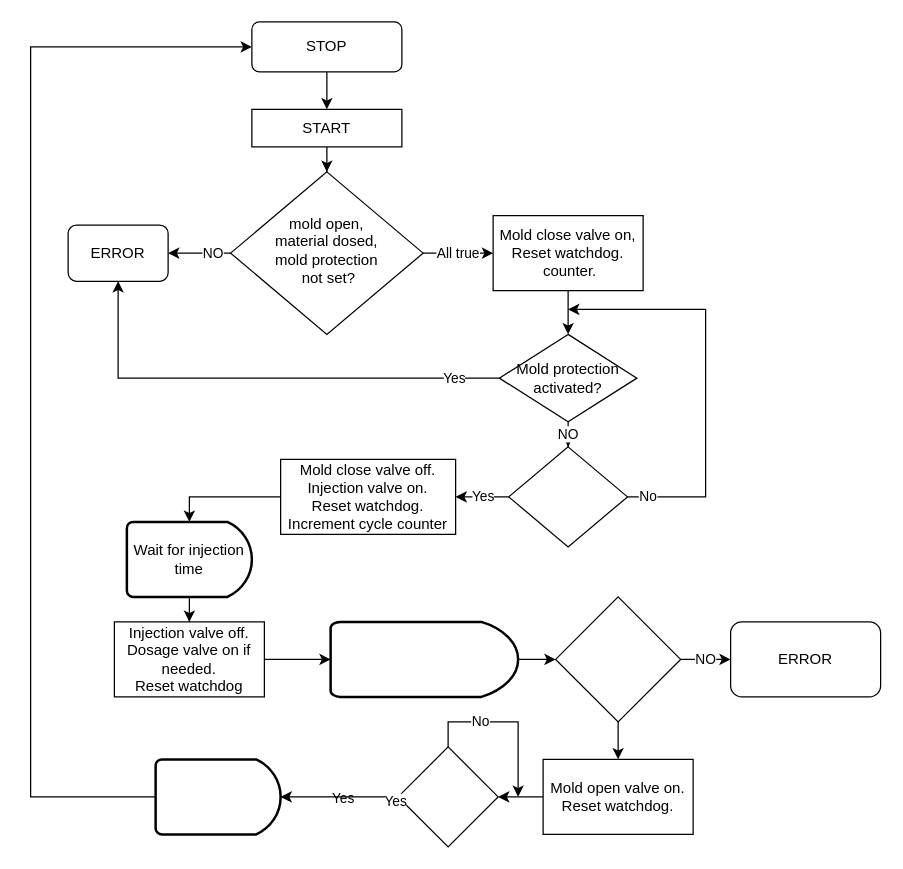
The diagram is 903 pixels wide and 869 high, and some of its shapes have lost their labels. Here are the shapes that lost their labels. From the top down, the centre of each, then its label:
At pixel 568 496: "mold closed?".
At pixel 424 659: "Wait for cooling time. If injection finish, turn dosage valve off.".
At pixel 617 659: "Dosage finish?".
At pixel 217 796: "Wait for mold open time".
At pixel 447 796: "Mold open?".
